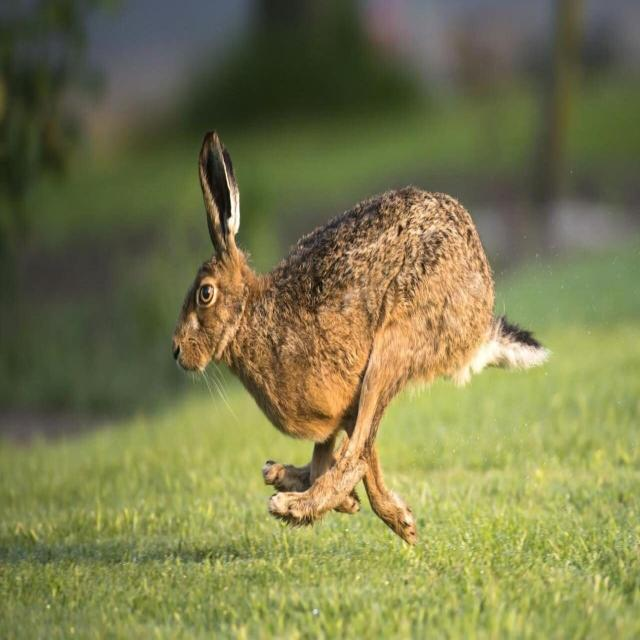Hare: (169, 134, 551, 549)
